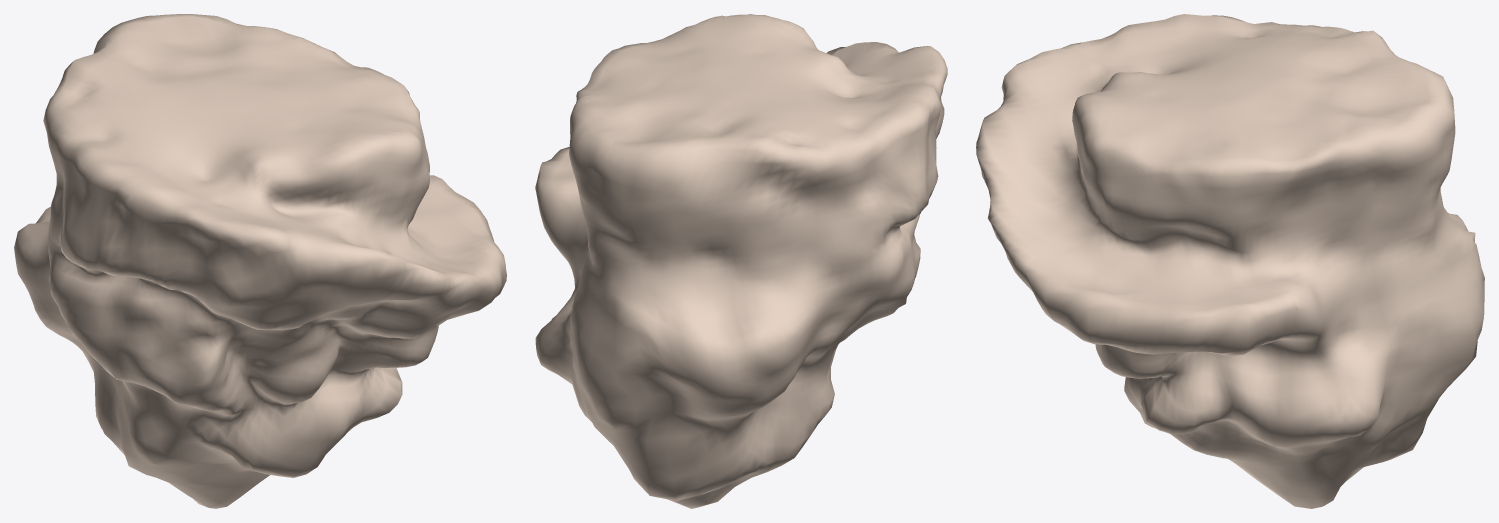
File: air_floatingIsland_03_mesh.fbx
The picture shows the model from 3 angles, left to right: view 1: azimuth 30°, elevation 25°; view 2: azimuth 150°, elevation 25°; view 3: azimuth 270°, elevation 25°; orthographic projection. The views are drawn at different scales.
Visible parts, largest first — view 1: island3Low; view 2: island3Low; view 3: island3Low.
Boxes of the visible parts, left/top/right/bottom form: island3Low: left=14, top=14, right=506, bottom=508; island3Low: left=535, top=14, right=947, bottom=508; island3Low: left=976, top=14, right=1484, bottom=508.
Bounding box in the file's own units: 2570 × 2731 × 2948.
